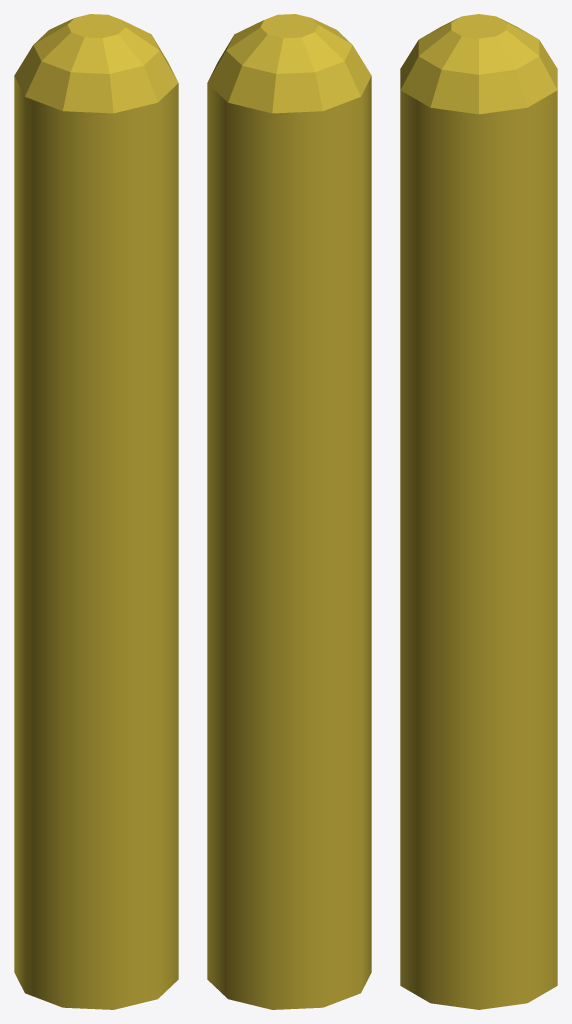
The model's file is SM_pylon_02.fbx.
The picture shows the model from 3 angles, left to right: view 1: azimuth 30°, elevation 25°; view 2: azimuth 150°, elevation 25°; view 3: azimuth 270°, elevation 25°; orthographic projection.
Visible parts, largest first — view 1: Cylinder031; view 2: Cylinder031; view 3: Cylinder031.
Boxes of the visible parts, x1=… form: Cylinder031: x1=14, y1=14, x2=178, y2=1009; Cylinder031: x1=207, y1=14, x2=371, y2=1009; Cylinder031: x1=400, y1=14, x2=557, y2=1009.
Bounding box in the file's own units: 5.75 × 5.47 × 36.45.
